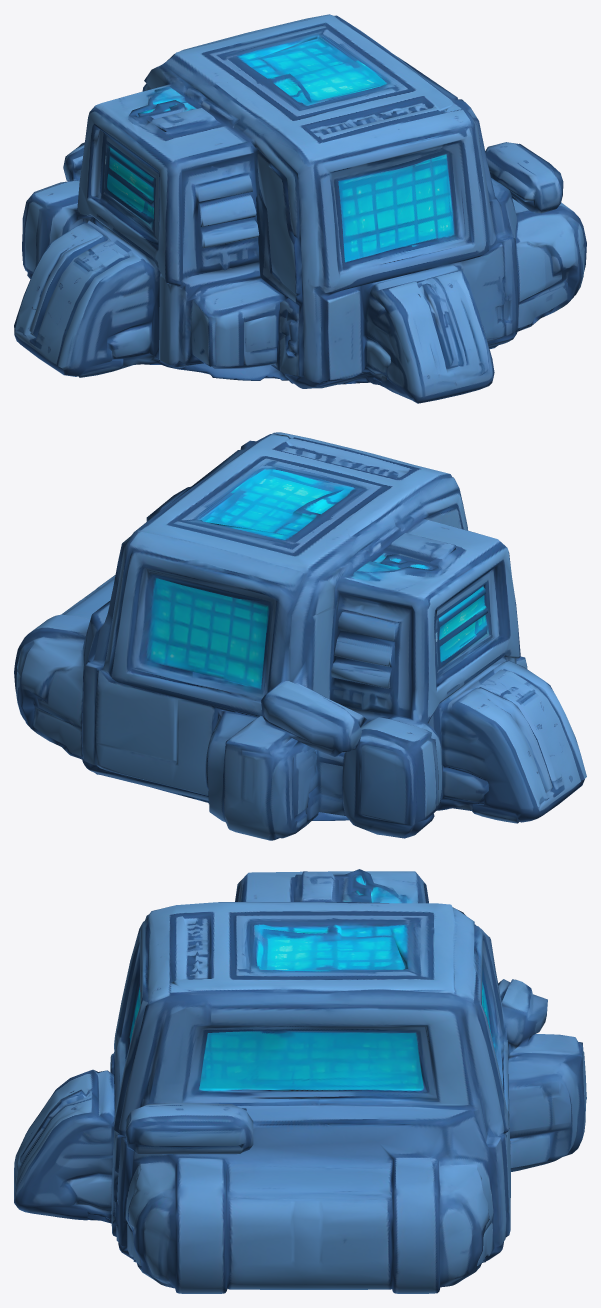
File: building-workshop.glb
3 views of the same model, one above another, from view 1: azimuth 30°, elevation 25°; view 2: azimuth 150°, elevation 25°; view 3: azimuth 270°, elevation 25° (orthographic). The views are drawn at different scales.
Visible parts, largest first — view 1: tripo_node_3b982d25-ad41-4204-af83-dcd424634ef3; view 2: tripo_node_3b982d25-ad41-4204-af83-dcd424634ef3; view 3: tripo_node_3b982d25-ad41-4204-af83-dcd424634ef3.
Boxes of the visible parts, x1,y1,x2,y2 form: tripo_node_3b982d25-ad41-4204-af83-dcd424634ef3: [14, 14, 586, 403]; tripo_node_3b982d25-ad41-4204-af83-dcd424634ef3: [14, 432, 586, 840]; tripo_node_3b982d25-ad41-4204-af83-dcd424634ef3: [14, 869, 586, 1293].
Bounding box in the file's own units: 0.9802 × 0.4533 × 0.9143.
1 material, 1 textured.
